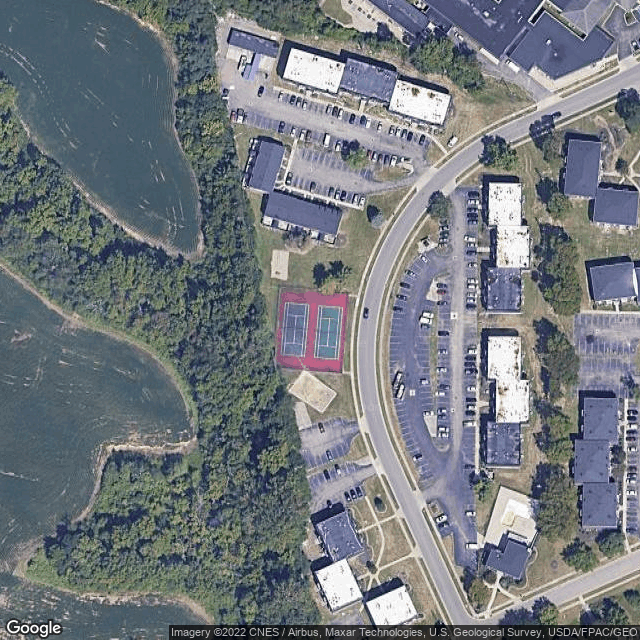Court: (314, 305, 344, 363), (279, 300, 309, 357)
